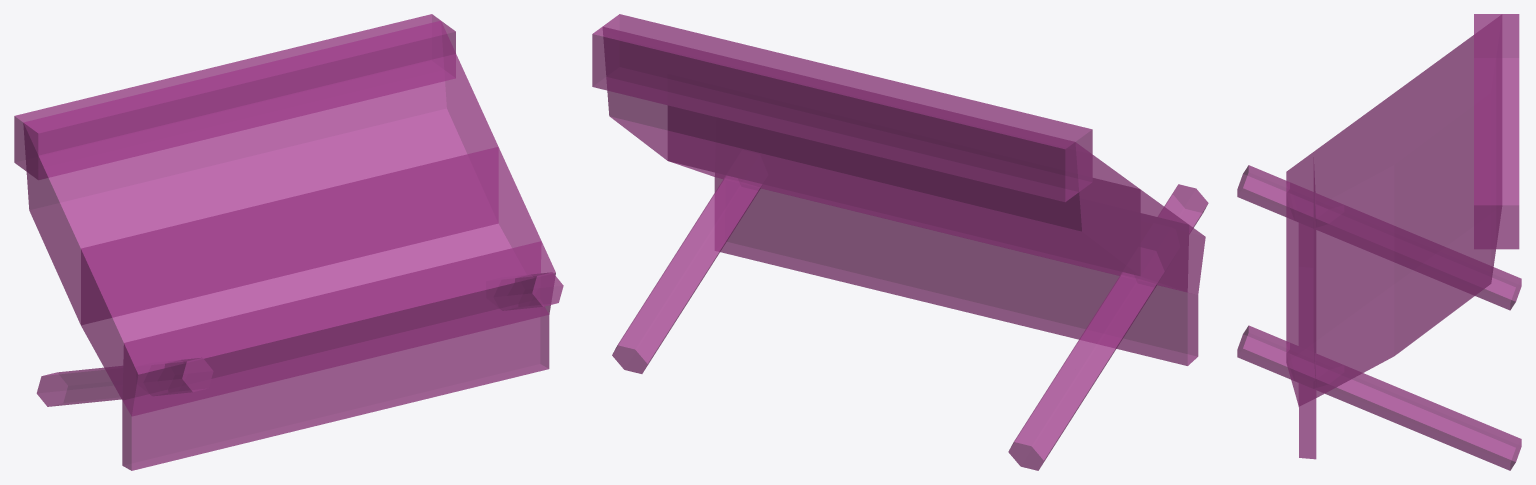
Rendered from SM_Bld_Awning_03_Collision_01.fbx.
3 renders of one model, left to right at view 1: azimuth 30°, elevation 25°; view 2: azimuth 150°, elevation 25°; view 3: azimuth 270°, elevation 25°, orthographic. The views are drawn at different scales.
Parts seen in each view (by area): view 1: SM_Bld_Awning_03_Collision_01; view 2: SM_Bld_Awning_03_Collision_01; view 3: SM_Bld_Awning_03_Collision_01.
Boxes of the visible parts, x1=… form: SM_Bld_Awning_03_Collision_01: x1=14, y1=14, x2=563, y2=470; SM_Bld_Awning_03_Collision_01: x1=592, y1=14, x2=1208, y2=470; SM_Bld_Awning_03_Collision_01: x1=1237, y1=14, x2=1521, y2=470.
Size of the model in its own units: 162 by 109 by 102.
